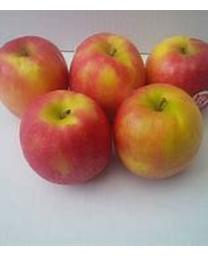apple: (18, 90, 112, 185), (112, 83, 202, 179), (69, 33, 145, 115), (1, 36, 69, 118), (145, 34, 207, 95)
